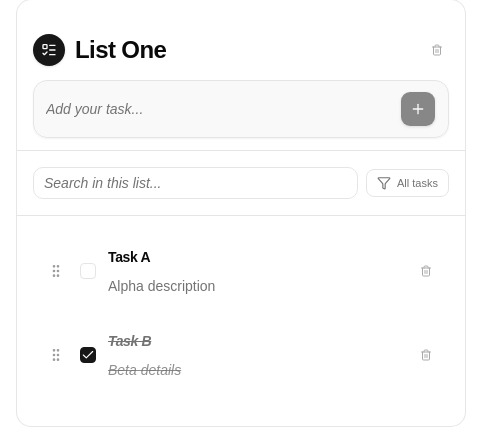
Scenario: TodoList › combines filter + search and shows no-match state
Expected: the field with placeholder "Search in this list..." is shown, [33,167,358,199]
Click the button "All tasks" at (408, 183), box [366,169,449,197]
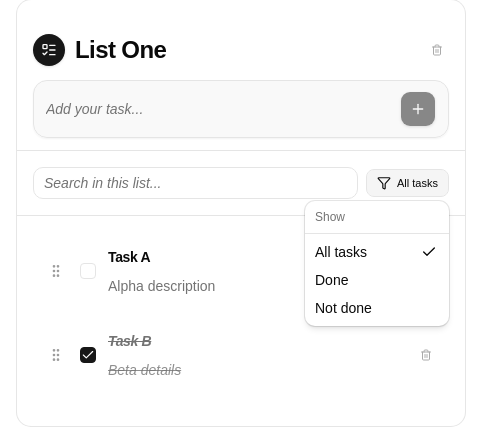
Click the menu item "Done" at (332, 280), box [315,272,348,288]
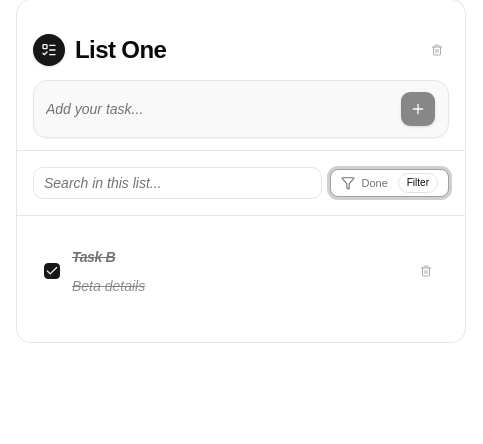
Type "Alpha" into the field with placeholder "Search in this list..." at (178, 183), box [33,167,322,199]
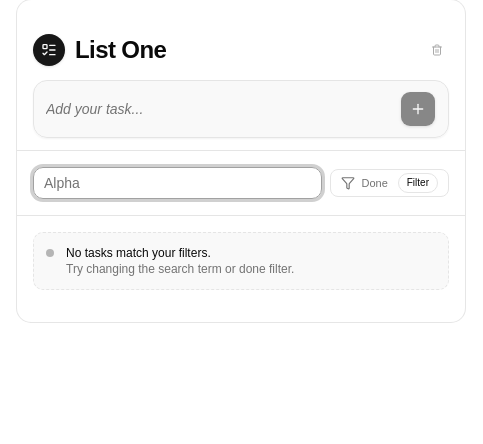
Expected: the text "No tasks match your filters." is shown, [66,246,211,260]
